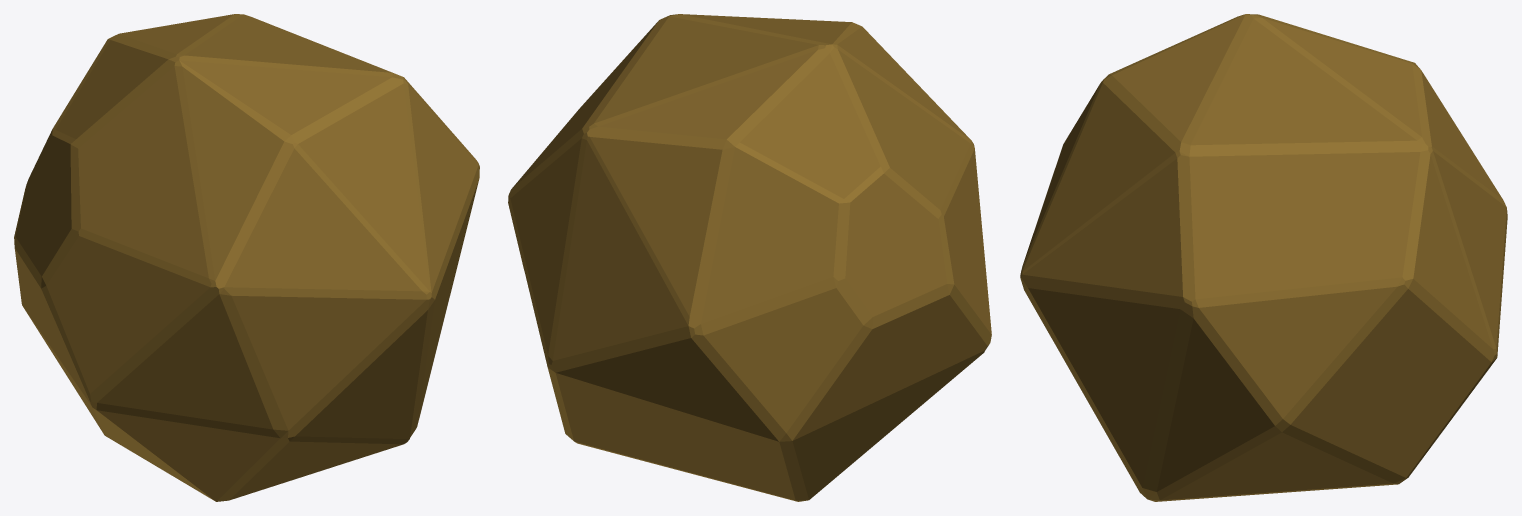
File: Earth_Magic.fbx
3 views of the same model, side by side, from view 1: azimuth 30°, elevation 25°; view 2: azimuth 150°, elevation 25°; view 3: azimuth 270°, elevation 25° (orthographic). The views are drawn at different scales.
Parts seen in each view (by area): view 1: Earth; view 2: Earth; view 3: Earth.
Boxes of the visible parts, x1,y1,x2,y2 form: Earth: (14, 14, 479, 501); Earth: (508, 14, 991, 501); Earth: (1020, 14, 1507, 501).
Bounding box in the file's own units: 16.73 × 16.85 × 16.92.
